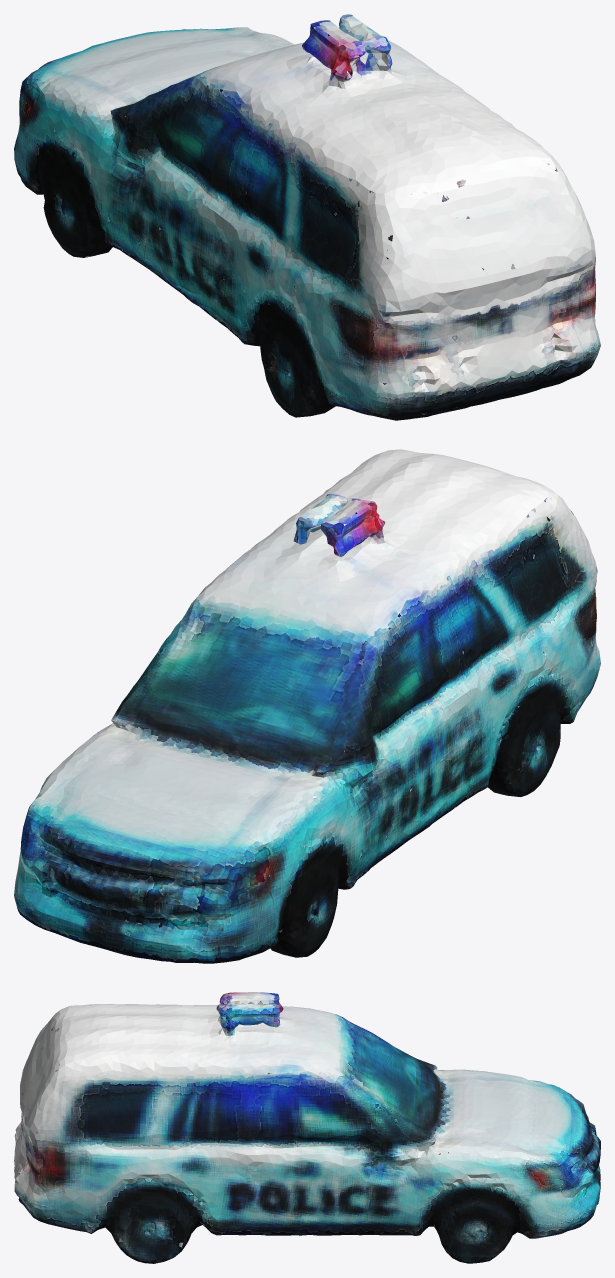
The model's file is a white and black police SUV car.glb.
3 renders of one model, top to bottom at view 1: azimuth 30°, elevation 25°; view 2: azimuth 150°, elevation 25°; view 3: azimuth 270°, elevation 25°, orthographic. The views are drawn at different scales.
Size of the model in its own units: 0.372 by 0.4209 by 0.9948.
1 material, 1 textured.
